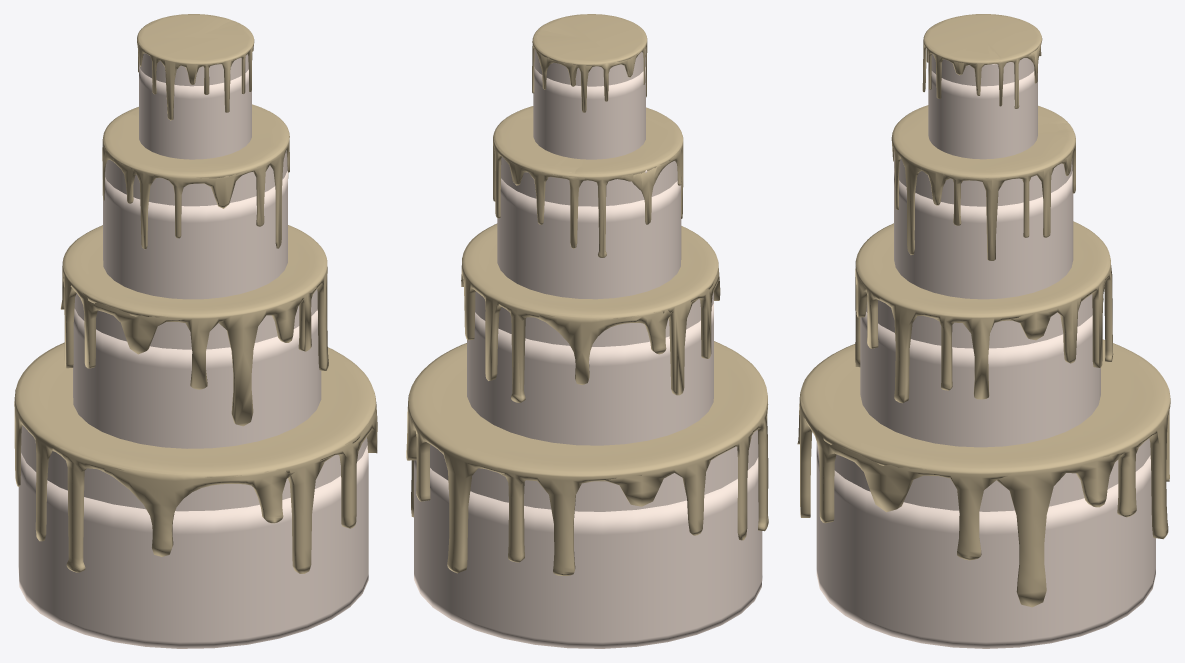
Rendered from 4-tier-white-ganache-none.glb.
3 renders of one model, left to right at view 1: azimuth 30°, elevation 25°; view 2: azimuth 150°, elevation 25°; view 3: azimuth 270°, elevation 25°, orthographic.
Visible parts, largest first — view 1: 3.001, tHE ICING.008, 3, 2, tHE ICING.007, tHE ICING.006, 1, tHE ICING.009; view 2: 3.001, tHE ICING.008, 3, 2, tHE ICING.007, tHE ICING.006, 1, tHE ICING.009; view 3: 3.001, tHE ICING.008, 3, 2, tHE ICING.007, tHE ICING.006, 1, tHE ICING.009.
Boxes of the visible parts, x1,y1,x2,y2 form: 3.001: [18, 425, 368, 648]; tHE ICING.008: [14, 342, 377, 573]; 3: [73, 289, 321, 448]; 2: [103, 145, 287, 299]; tHE ICING.007: [60, 225, 328, 426]; tHE ICING.006: [102, 104, 289, 249]; 1: [139, 53, 251, 159]; tHE ICING.009: [137, 14, 254, 120]; 3.001: [414, 430, 762, 648]; tHE ICING.008: [406, 341, 768, 575]; 3: [467, 291, 713, 445]; 2: [497, 157, 681, 299]; tHE ICING.007: [461, 223, 720, 402]; tHE ICING.006: [493, 106, 683, 257]; 1: [533, 49, 645, 159]; tHE ICING.009: [532, 14, 647, 112]; 3.001: [816, 438, 1155, 648]; tHE ICING.008: [797, 339, 1170, 607]; 3: [860, 294, 1100, 447]; 2: [894, 152, 1073, 299]; tHE ICING.007: [855, 221, 1113, 403]; tHE ICING.006: [891, 105, 1075, 260]; 1: [928, 54, 1037, 159]; tHE ICING.009: [922, 14, 1042, 108].
Bounding box in the file's own units: 4.52 × 7.45 × 4.69.
